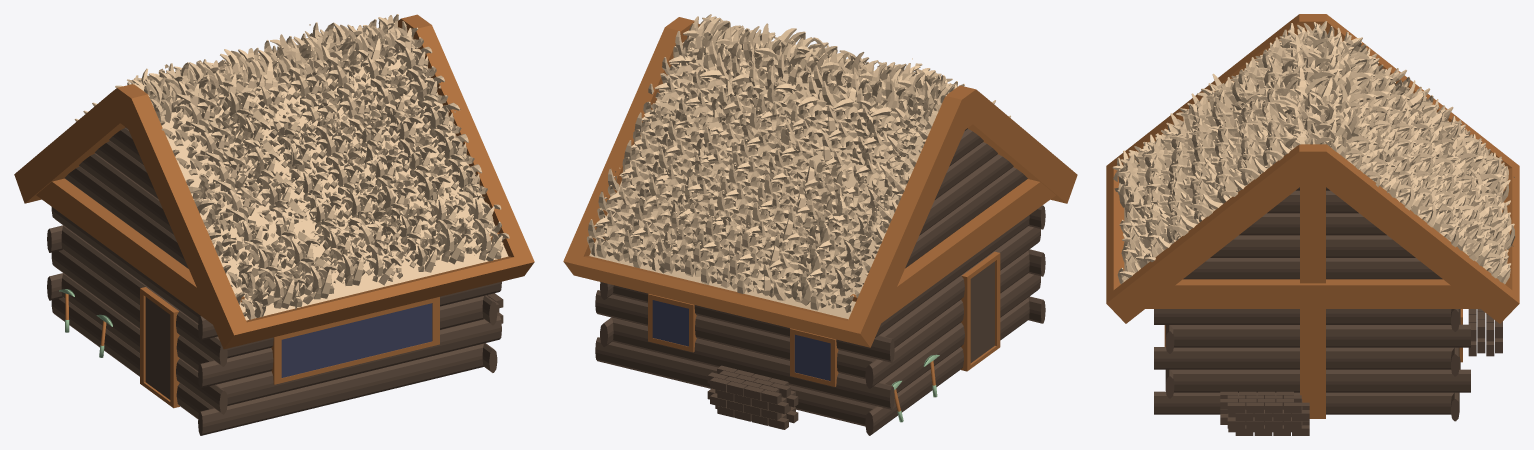
Rendered from StoneHouse.fbx.
3 views of the same model, side by side, from view 1: azimuth 30°, elevation 25°; view 2: azimuth 150°, elevation 25°; view 3: azimuth 270°, elevation 25° (orthographic). The views are drawn at different scales.
Visible parts, largest first — view 1: WoodHouse; view 2: WoodHouse; view 3: WoodHouse.
Part boxes in pixels (bbox=[...]): WoodHouse: bbox=[14, 14, 534, 435]; WoodHouse: bbox=[563, 14, 1077, 435]; WoodHouse: bbox=[1106, 14, 1519, 435].
Size of the model in its own units: 1460 by 1256 by 1667.
